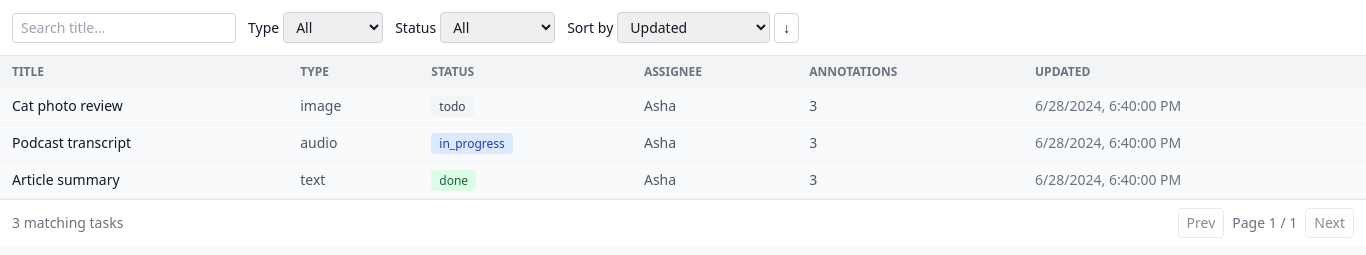
Test: Task list filtering (FilterBar + TaskTable) › filters visible rows when the user types in the search box
Type "podcast" into the field named "Search tasks by title".
click(124, 28); type("podcast")  # box [12, 12, 236, 42]
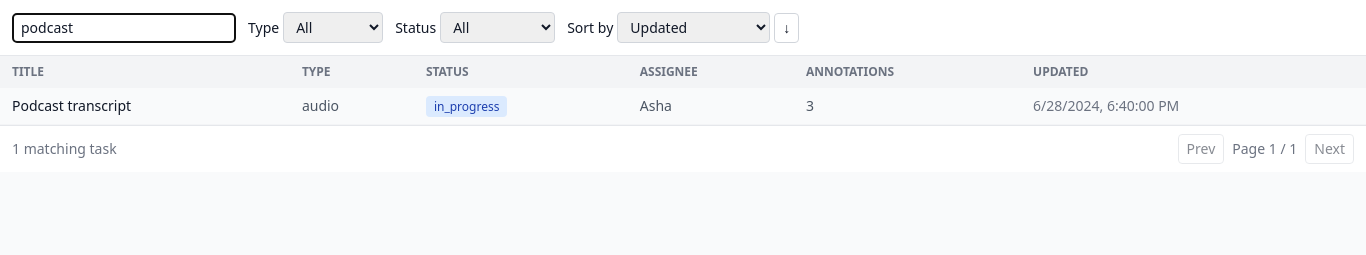
Expected: the text "Podcast transcript" is shown, [0, 88, 290, 124]
Expected: the text "Cat photo review" is gone
Expected: the text "Article summary" is gone
